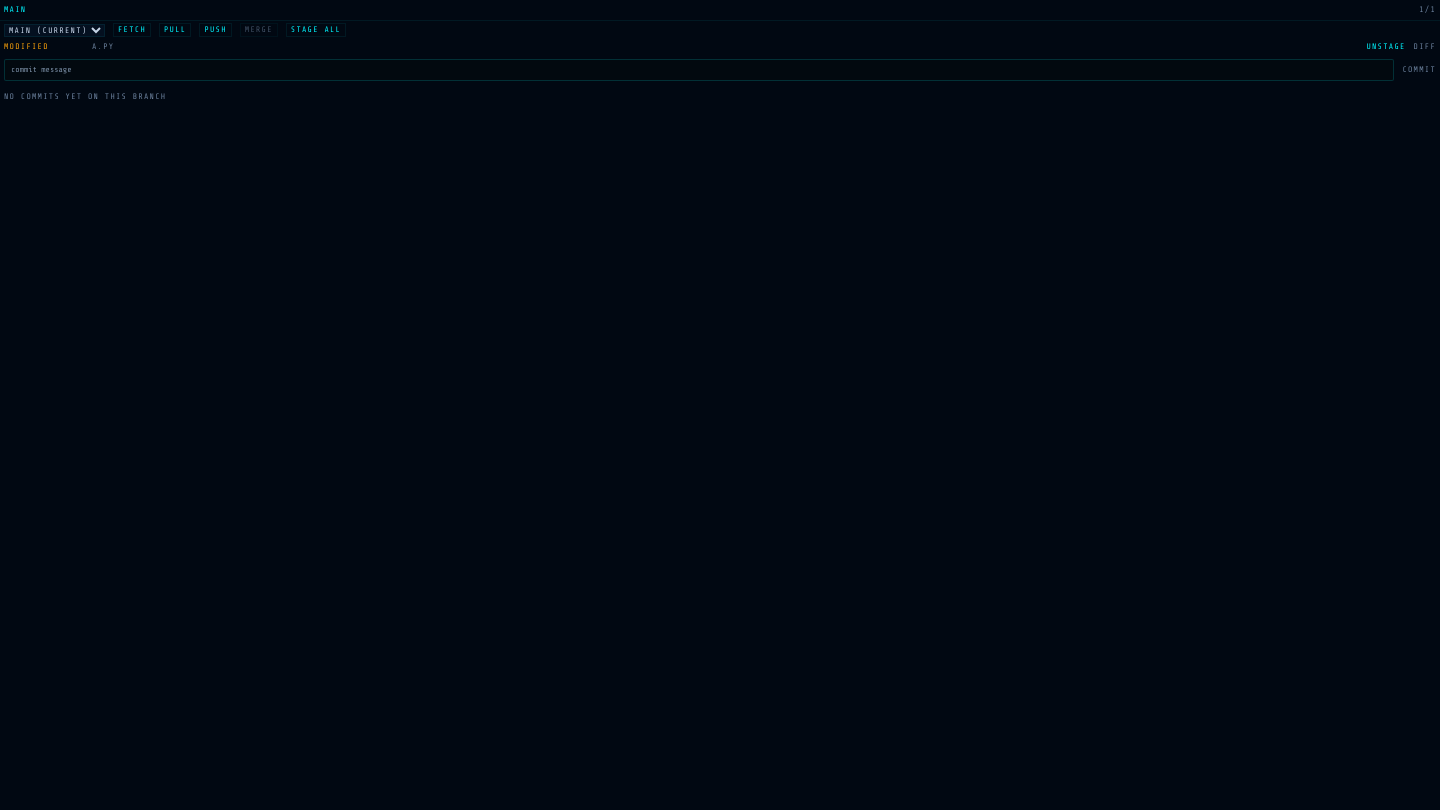
GitPanel › cancelling a preview runs nothing
This screenshot has width=1440, height=810.
Type "wip" into the field labelled "commit message" at (699, 70), box [4,59,1394,81]
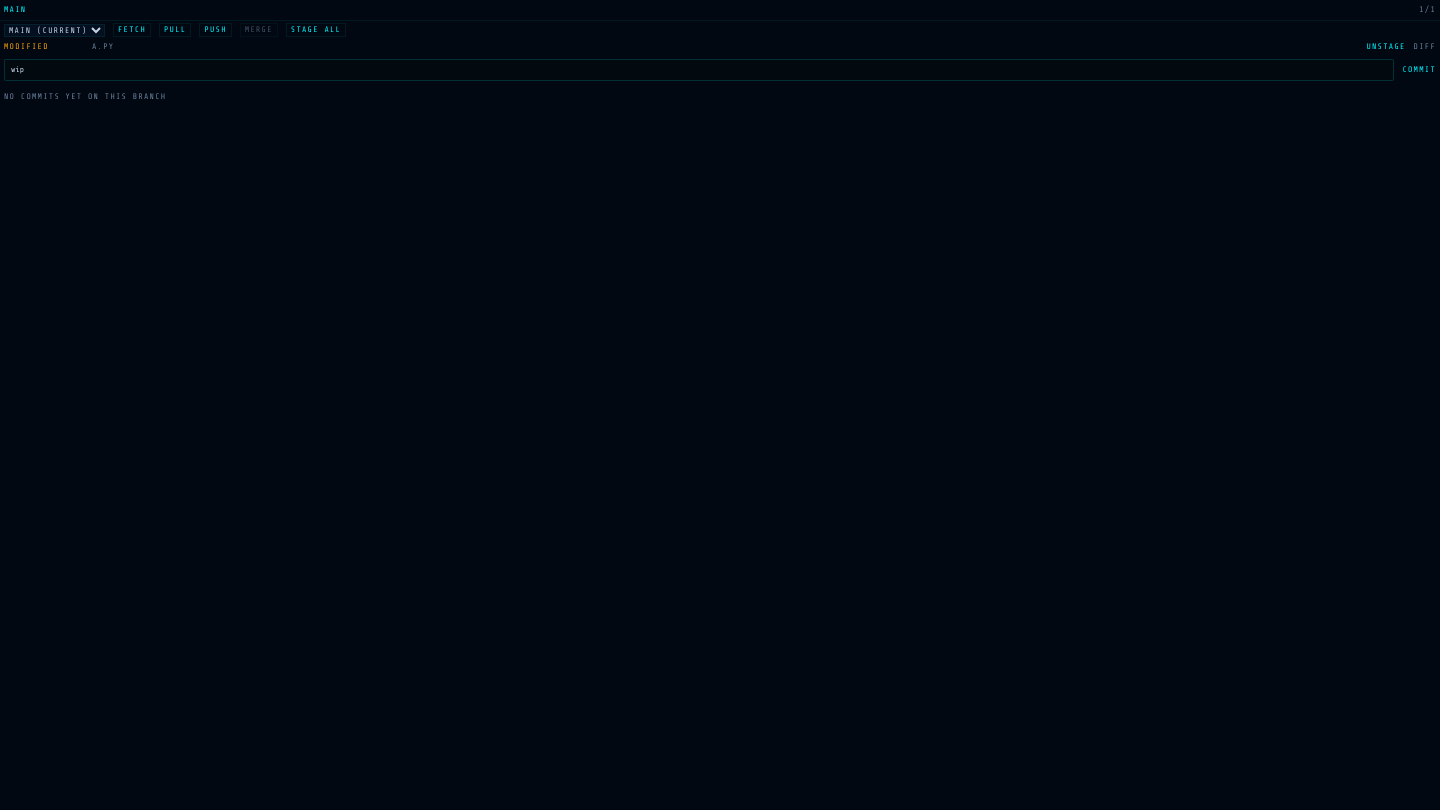
Click the button "Commit" at (1419, 70), box [1402,64,1436,76]
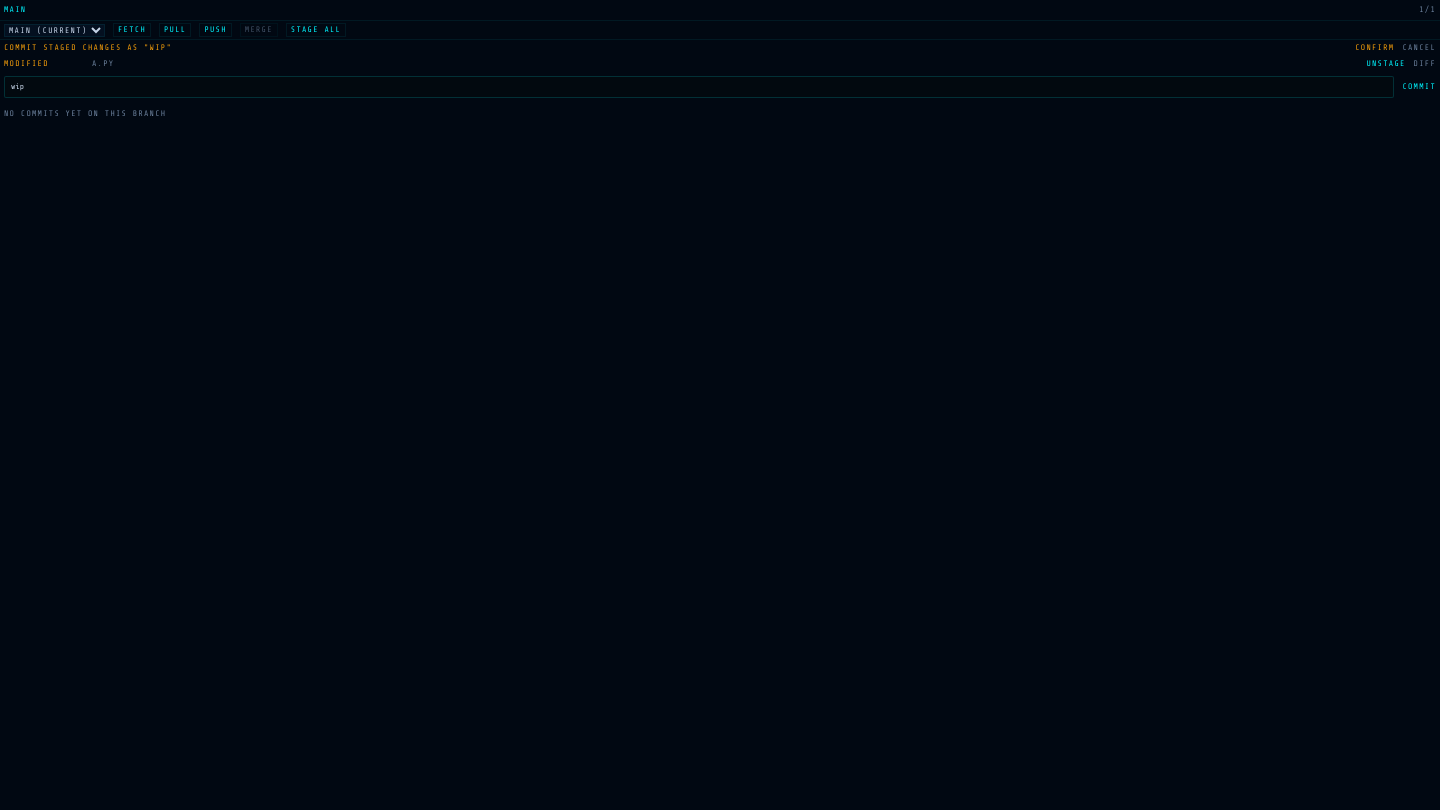
Expected: the dialog is shown, [0,39,1439,56]
Click the button "CANCEL" at (1419, 48), box [1402,42,1436,54]
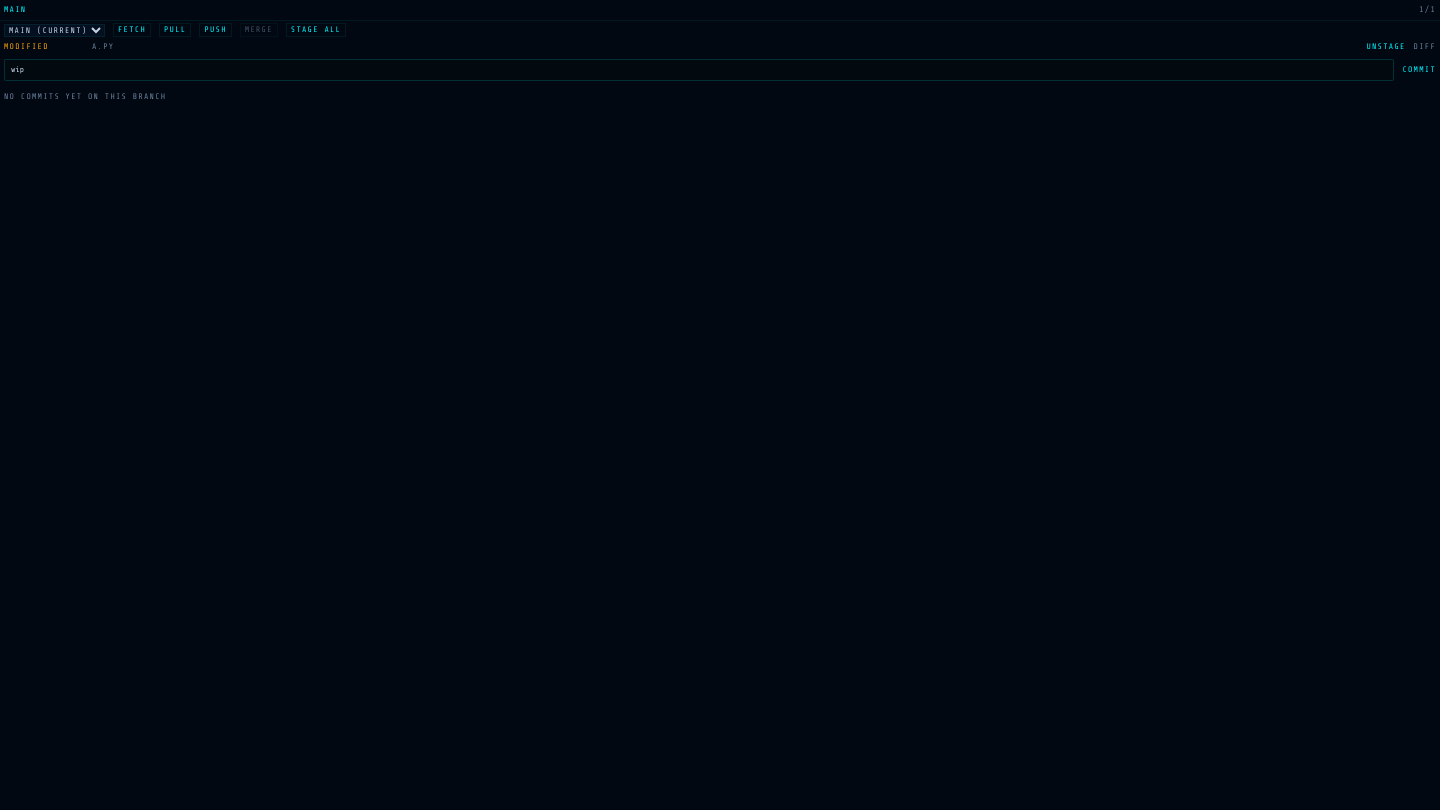
Expected: the dialog is gone
